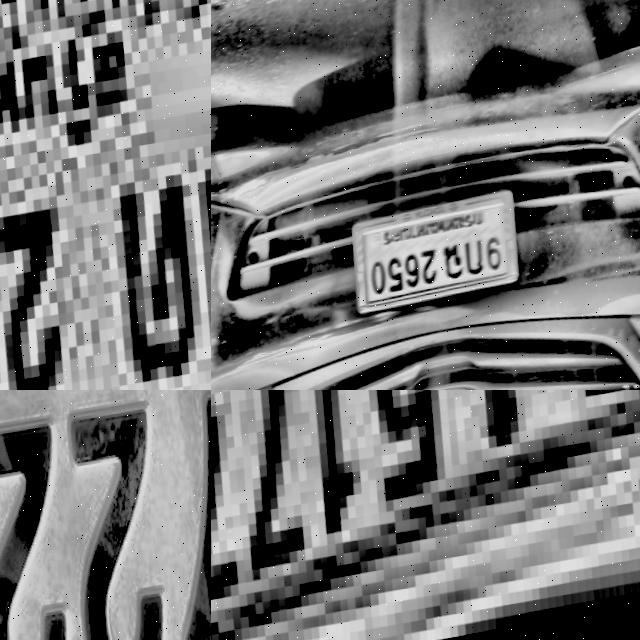license-plate: (211, 390, 640, 640), (0, 0, 211, 390), (0, 390, 211, 640), (349, 197, 531, 322)
